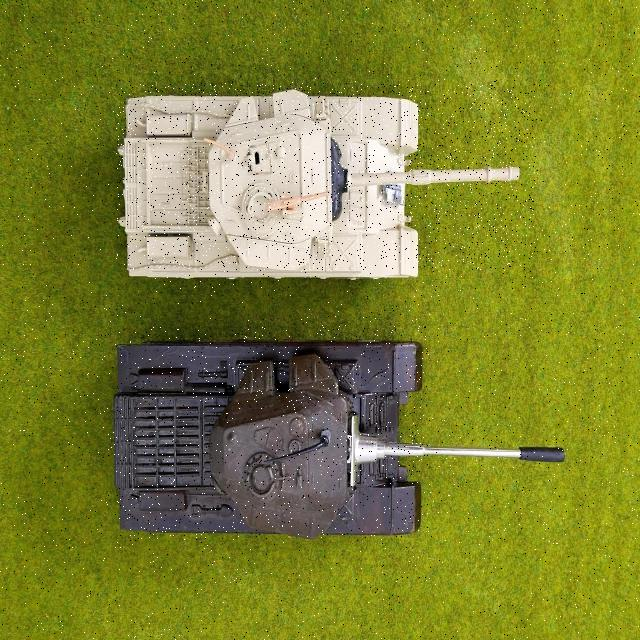MIL_MBT: (116, 84, 536, 270), (115, 326, 430, 540)
